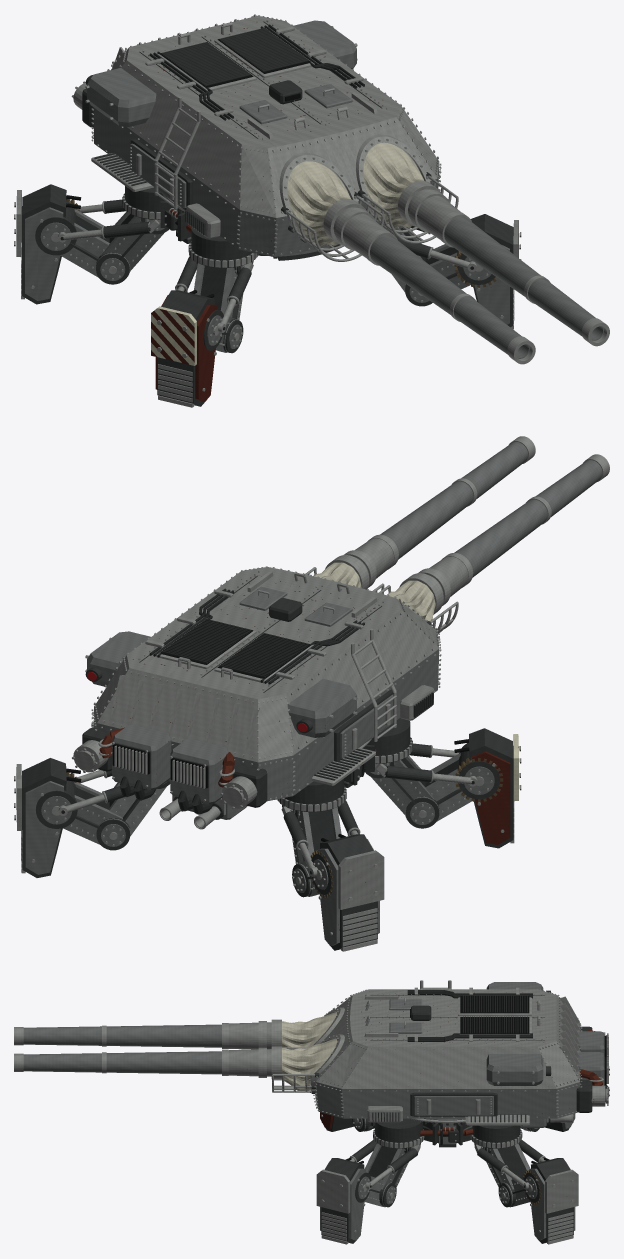
Rendered from SiegeWalker.obj.
3 views of the same model, one above another, from view 1: azimuth 30°, elevation 25°; view 2: azimuth 150°, elevation 25°; view 3: azimuth 270°, elevation 25° (orthographic). The views are drawn at different scales.
Parts seen in each view (by area): view 1: Hull_sloped_armor, Main_roof, Main_long_barrel, Folded_canvas_gun_boot, Hull_lower_armor, Corner_sensor_pod, Roof_radiator_slat, Gun_machined_collar, Main_gun_sleeve, Left_Rear_foot_side_armor, Armored_gun_aperture_surround, Left_Front_tall_foot_casting (+32 smaller); view 2: Hull_sloped_armor, Main_roof, Main_long_barrel, Hull_lower_armor, Rear_radiator_housing, Corner_sensor_pod, Roof_radiator_slat, Gun_machined_collar, Left_Rear_broad_foot_front_shield, Right_Rear_foot_side_armor, Left_Front_foot_side_armor, Rear_sloped_maintenance_strip (+28 smaller); view 3: Hull_sloped_armor, Main_long_barrel, Main_roof, Hull_lower_armor, Folded_canvas_gun_boot, Roof_radiator_recess, Corner_sensor_pod, Main_gun_sleeve, Gun_machined_collar, Side_access_door, Roof_radiator_slat, Right_Front_broad_foot_front_shield (+28 smaller).
Part boxes in pixels (box(x1,y1,x2,y2)): Hull_sloped_armor: box(111, 47, 439, 217); Main_roof: box(127, 15, 400, 148); Main_long_barrel: box(370, 216, 603, 358); Folded_canvas_gun_boot: box(287, 142, 424, 246); Hull_lower_armor: box(94, 108, 439, 256); Corner_sensor_pod: box(87, 20, 356, 126); Roof_radiator_slat: box(161, 27, 309, 86); Gun_machined_collar: box(323, 180, 550, 321); Main_gun_sleeve: box(333, 189, 460, 257); Left_Rear_foot_side_armor: box(25, 207, 63, 300); Armored_gun_aperture_surround: box(279, 134, 430, 232); Left_Front_tall_foot_casting: box(157, 290, 215, 406); Hull_sloped_armor: box(94, 598, 439, 762); Main_roof: box(127, 567, 400, 699); Main_long_barrel: box(380, 442, 602, 577); Hull_lower_armor: box(94, 649, 439, 801); Rear_radiator_housing: box(112, 724, 228, 804); Corner_sensor_pod: box(87, 631, 356, 737); Roof_radiator_slat: box(161, 619, 309, 677); Gun_machined_collar: box(325, 478, 551, 614); Left_Rear_broad_foot_front_shield: box(338, 850, 384, 909); Right_Rear_foot_side_armor: box(25, 781, 63, 874); Left_Front_foot_side_armor: box(472, 751, 510, 844); Rear_sloped_maintenance_strip: box(110, 675, 259, 750); Hull_sloped_armor: box(315, 995, 579, 1088); Main_long_barrel: box(23, 1024, 221, 1074); Main_roof: box(350, 989, 556, 1046); Hull_lower_armor: box(315, 1079, 579, 1118); Folded_canvas_gun_boot: box(282, 1012, 336, 1090); Roof_radiator_recess: box(460, 996, 529, 1034); Corner_sensor_pod: box(486, 982, 543, 1085); Main_gun_sleeve: box(228, 1022, 271, 1076); Gun_machined_collar: box(102, 1019, 281, 1079); Side_access_door: box(414, 1096, 493, 1115); Roof_radiator_slat: box(463, 995, 527, 1033); Right_Front_broad_foot_front_shield: box(316, 1169, 350, 1213).
Bounding box in the file's own units: 7.31 × 4.49 × 13.92.
Materials: 14 (12 with a texture image).
